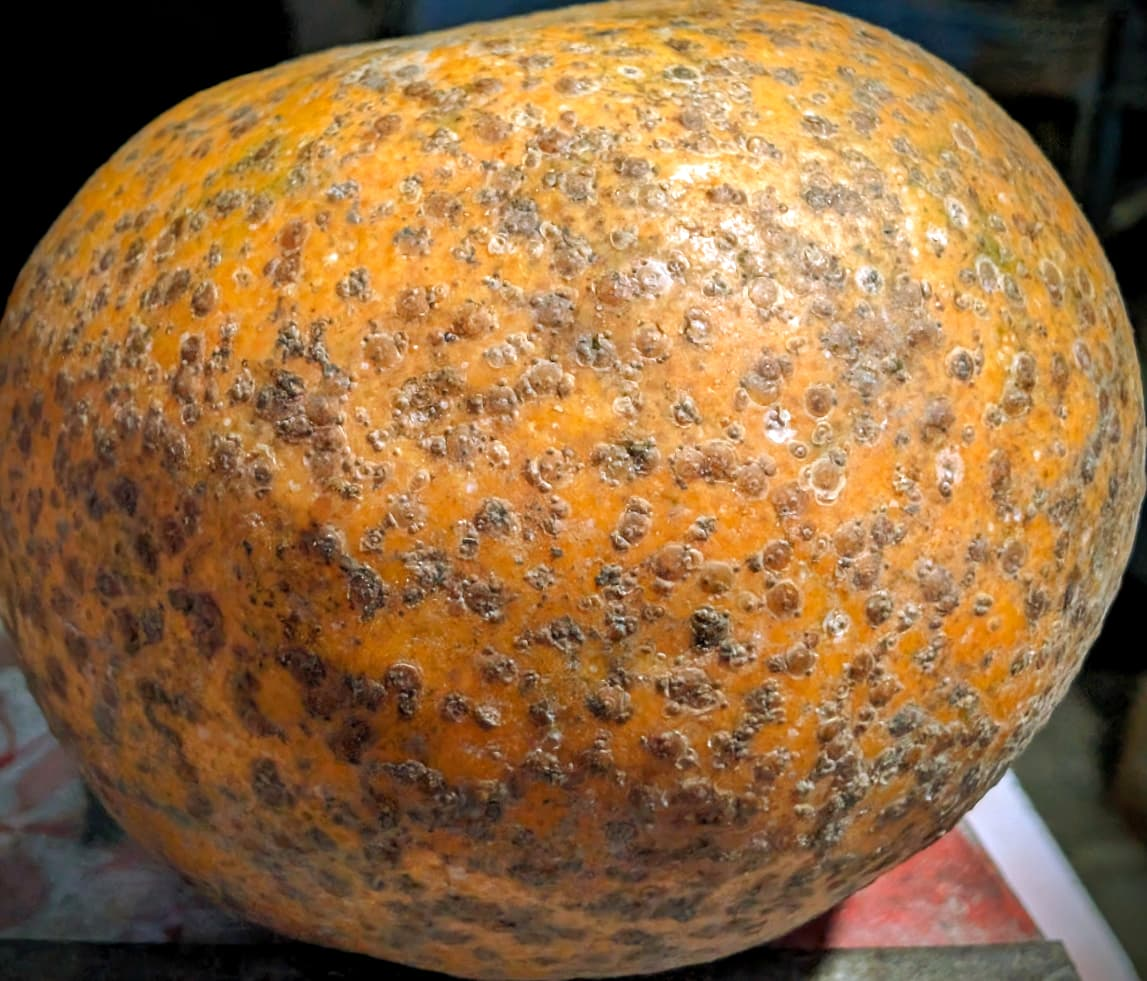orange: (173, 165, 946, 828)
